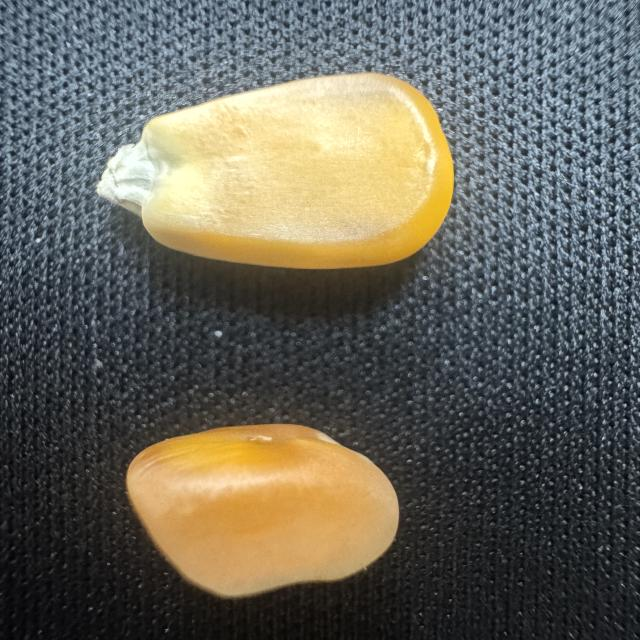Bad-Seed: (110, 410, 408, 610)
Good-Seed: (89, 65, 484, 274)
